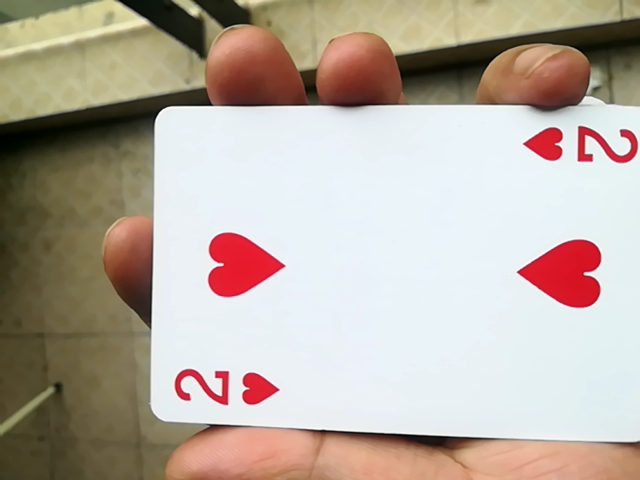hx 2: (137, 108, 637, 463)
